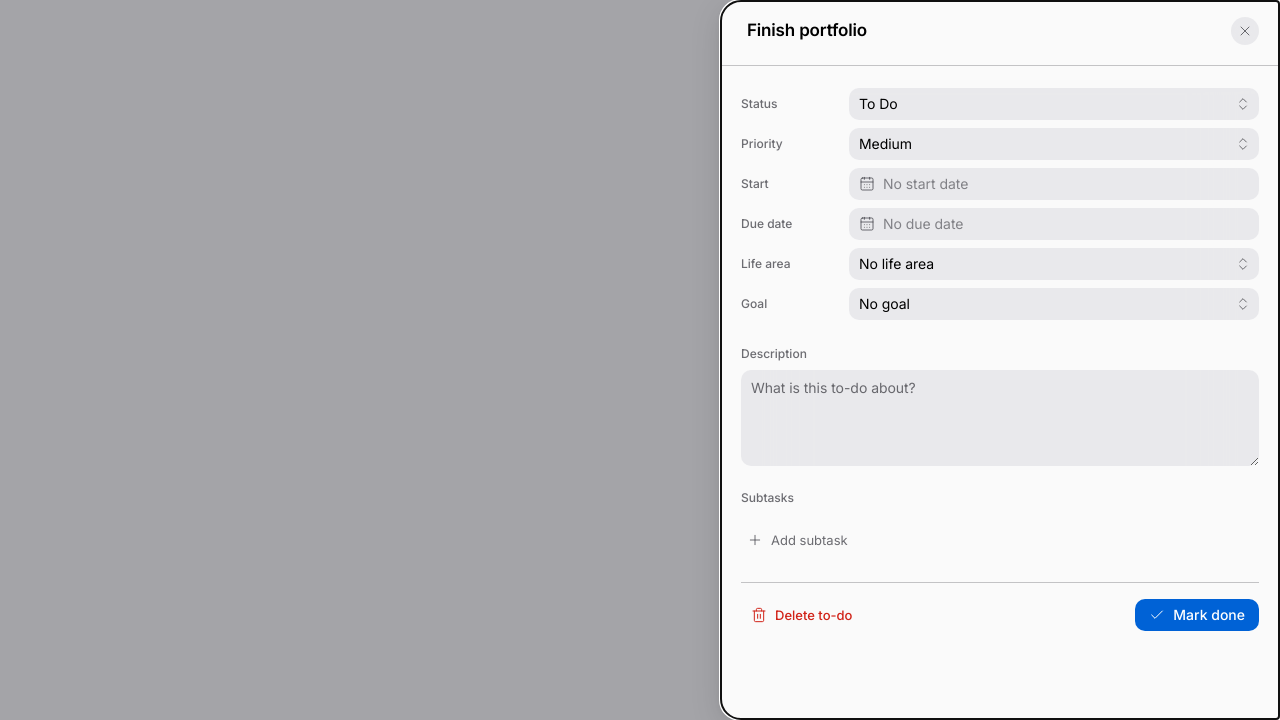
Scenario: revealing the composer › opens and focuses the input in one click
This screenshot has width=1280, height=720.
Click the button "Add subtask".
click(809, 540)  # box top-left (741, 522), bottom-right (1259, 558)
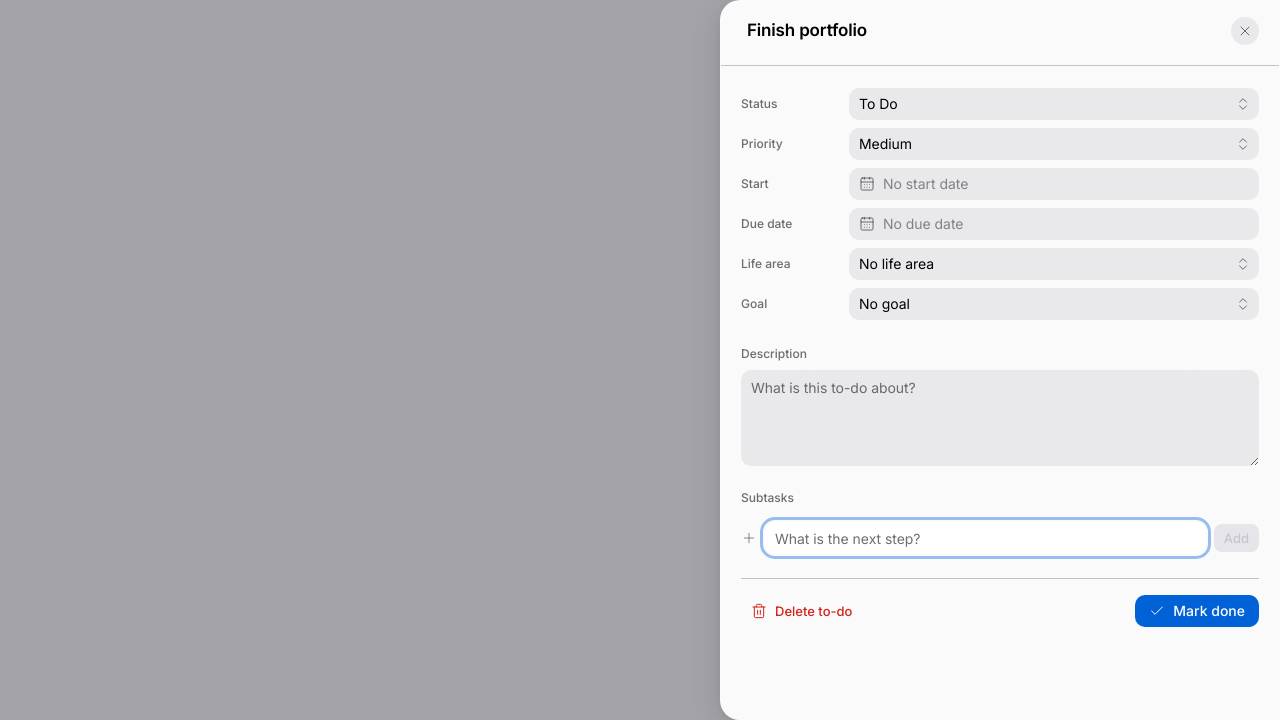
expect the field named "add a subtask" is shown: met, box top-left (765, 522), bottom-right (1206, 554)
